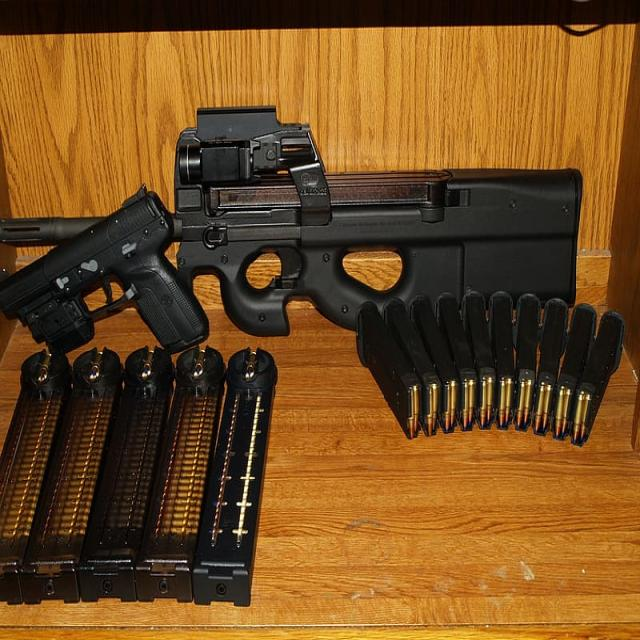Gun: (148, 94, 606, 358), (2, 183, 213, 366)
